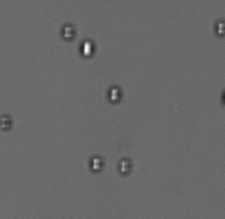Dead Cell: (1, 113, 12, 133)
Living Cell: (79, 37, 95, 58), (87, 154, 104, 172), (107, 84, 123, 103), (60, 22, 76, 40), (117, 158, 132, 175)
